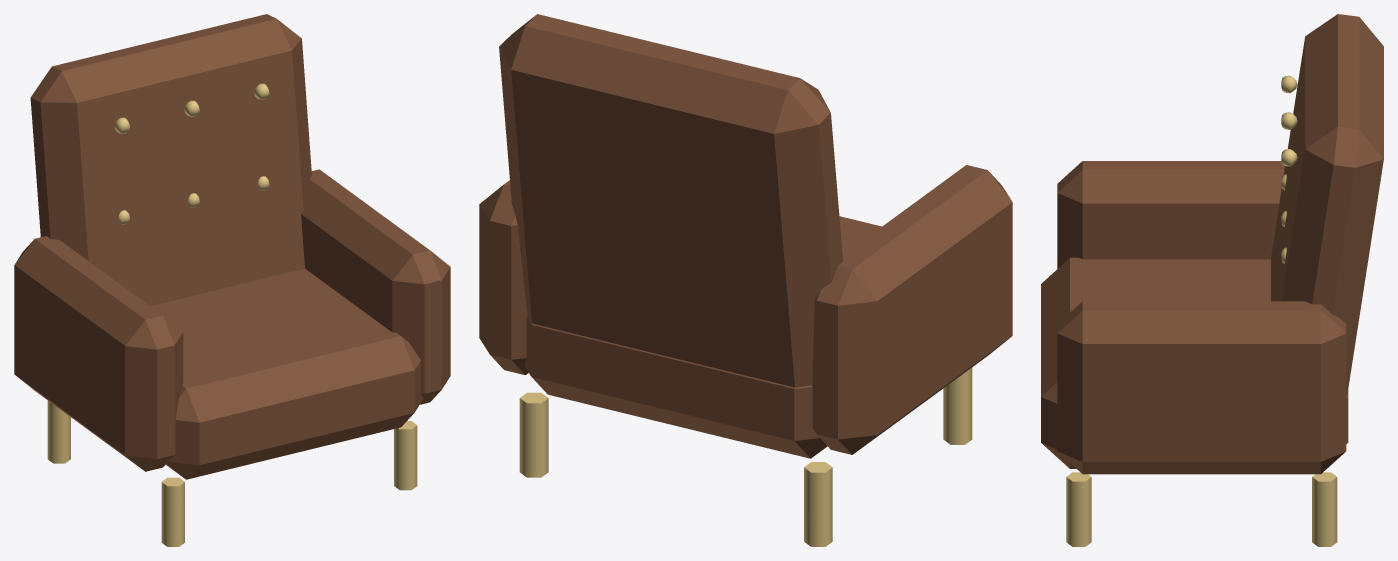
Rendered from ex_chair.glb.
3 renders of one model, left to right at view 1: azimuth 30°, elevation 25°; view 2: azimuth 150°, elevation 25°; view 3: azimuth 270°, elevation 25°, orthographic. The views are drawn at different scales.
Visible parts, largest first — view 1: ex_chair; view 2: ex_chair; view 3: ex_chair.
Boxes of the visible parts, x1=… form: ex_chair: x1=14, y1=14, x2=450, y2=546; ex_chair: x1=479, y1=14, x2=1012, y2=546; ex_chair: x1=1041, y1=14, x2=1383, y2=546.
Size of the model in its own units: 1.12 by 1.25 by 0.9489.
